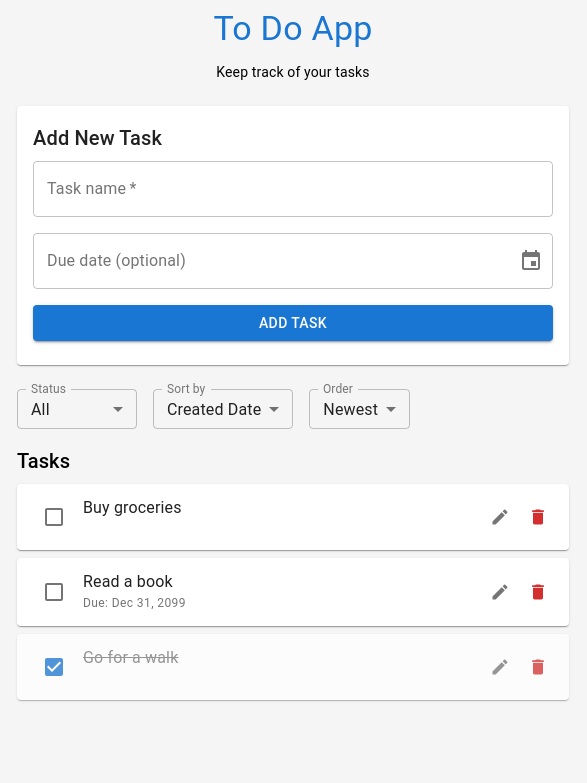
it: App Component › adds a new todo
The image size is (587, 783).
In the field with placeholder "Enter task name": (293,189) [33, 161, 553, 217], type "New Test Task"
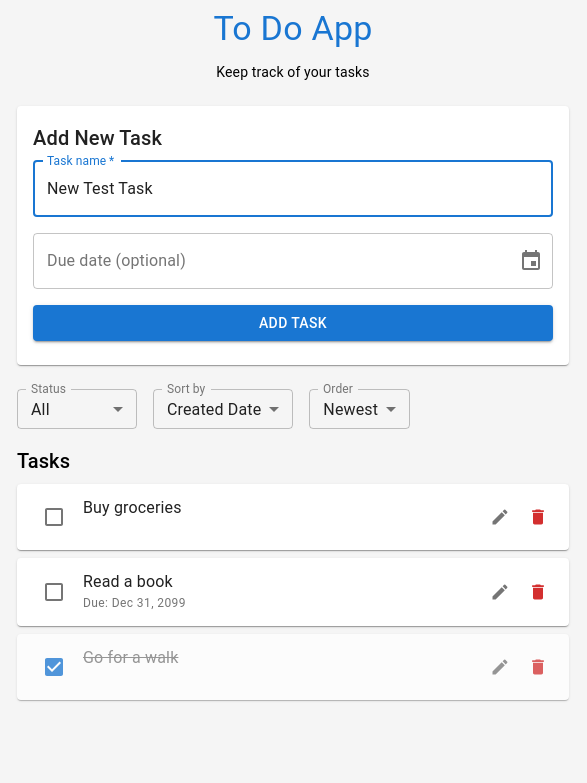
Click the button "Add Task": (293,323) [33, 305, 553, 341]
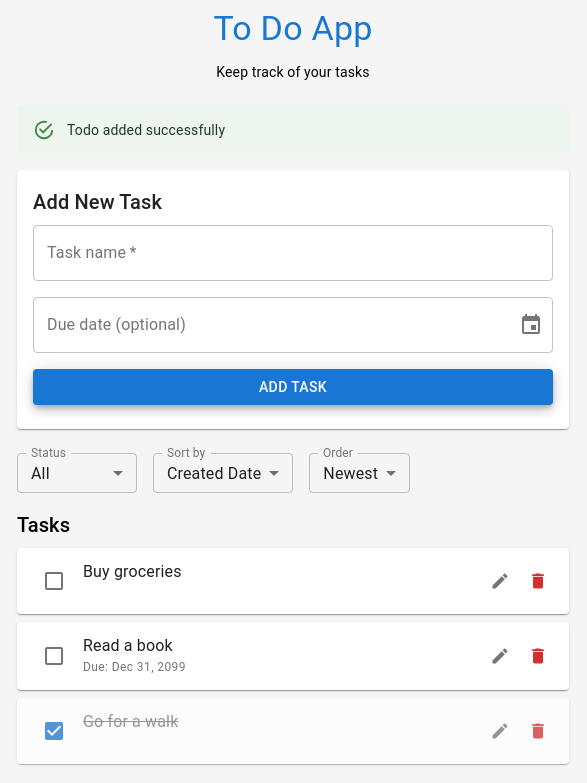
Expected: the text "Todo added successfully" is shown, [67, 122, 225, 138]
